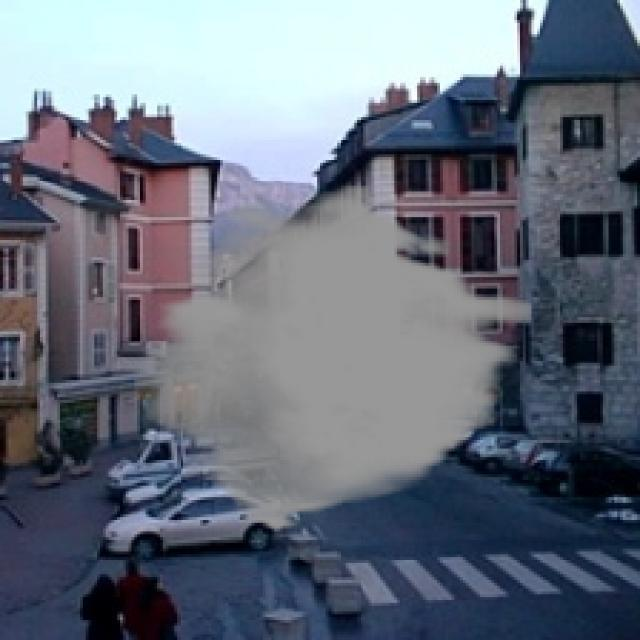Smoke: (134, 183, 532, 532)
